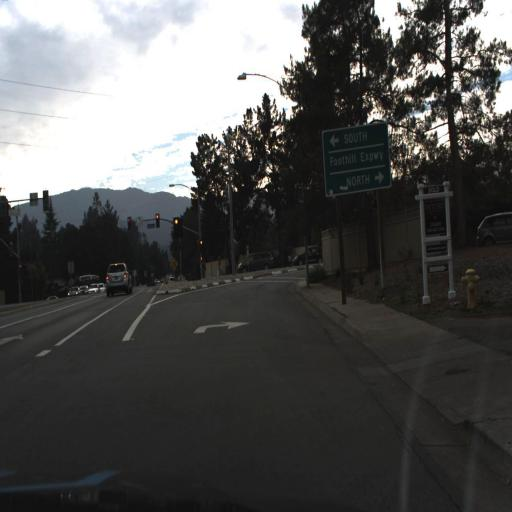car: (235, 248, 277, 279), (103, 261, 132, 296), (293, 244, 325, 269)
trafficLight-Red: (174, 216, 180, 235), (154, 212, 160, 230), (198, 237, 204, 250)
trafficLight-RedLeft: (126, 214, 132, 233)
